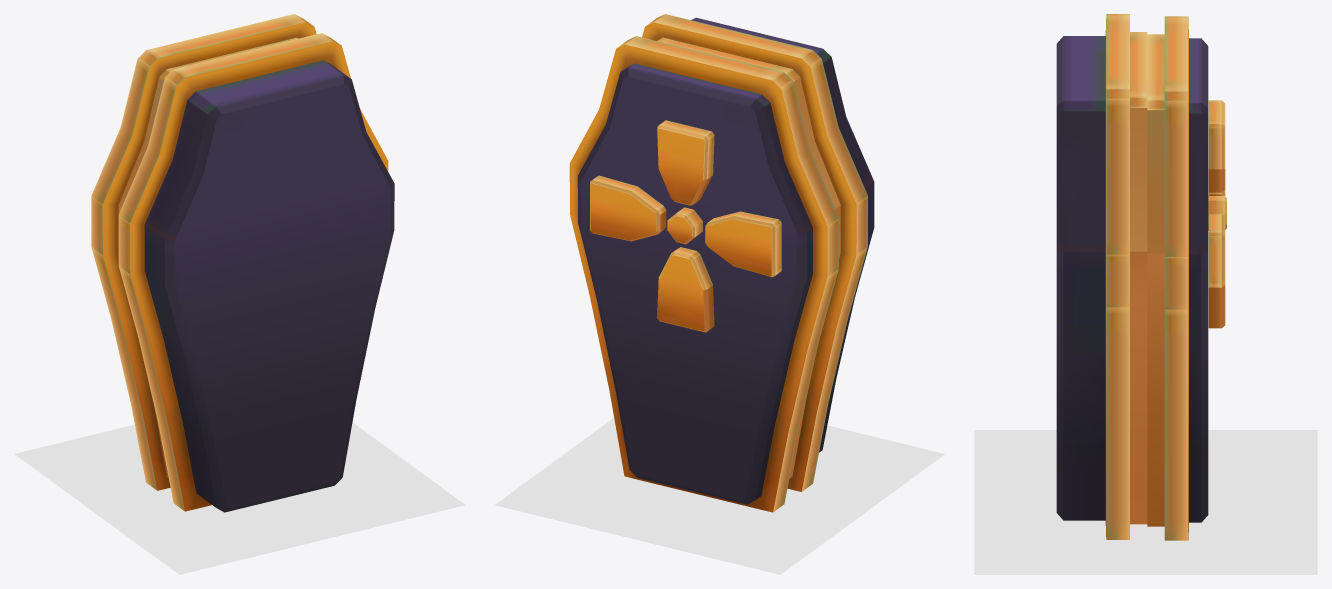
File: [gimmick]halloween_coffin.fbx
3 views of the same model, side by side, from view 1: azimuth 30°, elevation 25°; view 2: azimuth 150°, elevation 25°; view 3: azimuth 270°, elevation 25° (orthographic). The views are drawn at different scales.
Visible parts, largest first — view 1: gimmick_halloween_coffin, shadow, halloween_coffin_door; view 2: halloween_coffin_door, shadow, gimmick_halloween_coffin; view 3: gimmick_halloween_coffin, shadow, halloween_coffin_door.
Part boxes in pixels (x1=…): gimmick_halloween_coffin: x1=118, y1=33, x2=394, y2=512; shadow: x1=14, y1=422, x2=465, y2=574; halloween_coffin_door: x1=91, y1=14, x2=316, y2=490; halloween_coffin_door: x1=569, y1=36, x2=839, y2=512; shadow: x1=495, y1=418, x2=945, y2=574; gimmick_halloween_coffin: x1=642, y1=14, x2=874, y2=491; gimmick_halloween_coffin: x1=1056, y1=14, x2=1147, y2=539; shadow: x1=974, y1=430, x2=1317, y2=574; halloween_coffin_door: x1=1147, y1=16, x2=1226, y2=540.
Size of the model in its own units: 1.2 by 1.78 by 1.2.
2 materials, 2 textured.
